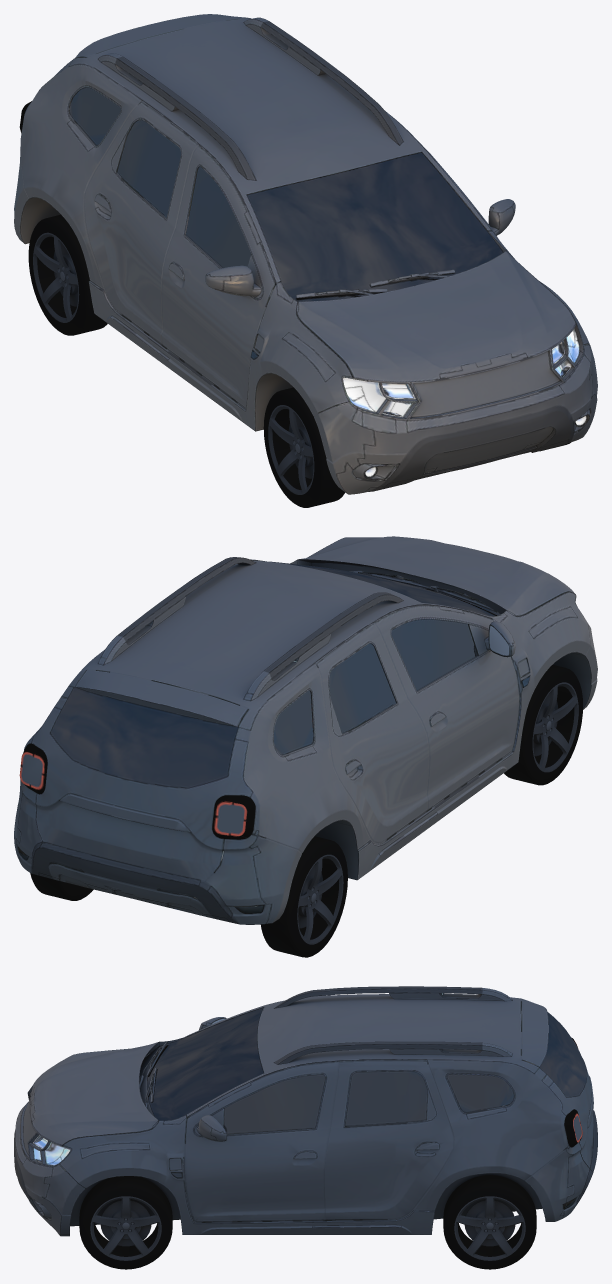
Rendered from car_B_v3_gray.glb.
The picture shows the model from 3 angles, top to bottom: view 1: azimuth 30°, elevation 25°; view 2: azimuth 150°, elevation 25°; view 3: azimuth 270°, elevation 25°; orthographic projection. The views are drawn at different scales.
Visible parts, largest first — view 1: body, Dacia_Duster_2018_FR_wheel, Dacia_Duster_2018_BR_wheel; view 2: body, Dacia_Duster_2018_BR_wheel, Dacia_Duster_2018_FR_wheel, Dacia_Duster_2018_BL_wheel; view 3: body, Dacia_Duster_2018_BL_wheel, Dacia_Duster_2018_FL_wheel.
Part boxes in pixels (bbox=[...]): body: bbox=[14, 14, 597, 494]; Dacia_Duster_2018_FR_wheel: bbox=[263, 387, 345, 507]; Dacia_Duster_2018_BR_wheel: bbox=[28, 214, 107, 335]; body: bbox=[14, 536, 597, 924]; Dacia_Duster_2018_BR_wheel: bbox=[261, 836, 347, 957]; Dacia_Duster_2018_FR_wheel: bbox=[504, 665, 582, 785]; Dacia_Duster_2018_BL_wheel: bbox=[30, 873, 93, 900]; body: bbox=[14, 986, 597, 1236]; Dacia_Duster_2018_BL_wheel: bbox=[443, 1175, 536, 1269]; Dacia_Duster_2018_FL_wheel: bbox=[79, 1176, 172, 1269].
Size of the model in its own units: 2.03 by 1.68 by 4.32.
Materials: 2 (2 with a texture image).
